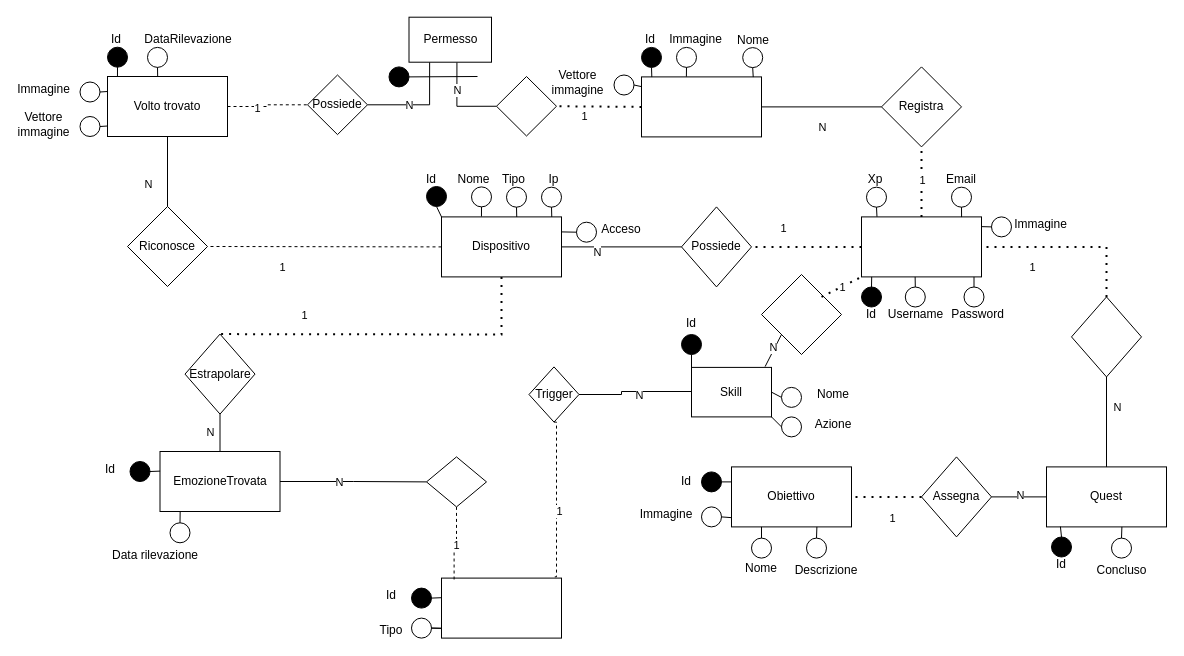
Image size: 1184x656. Some labels were removed from this diagram. Each missing label, with the box of its shape:
Emozione: (440, 577, 562, 638)
Identifica: (496, 76, 556, 136)
Riguarda: (426, 456, 486, 507)
Salva: (760, 274, 842, 354)
Svolge: (1070, 296, 1142, 377)
Utente: (860, 216, 982, 277)
VoltoRegistrato: (640, 76, 762, 137)
